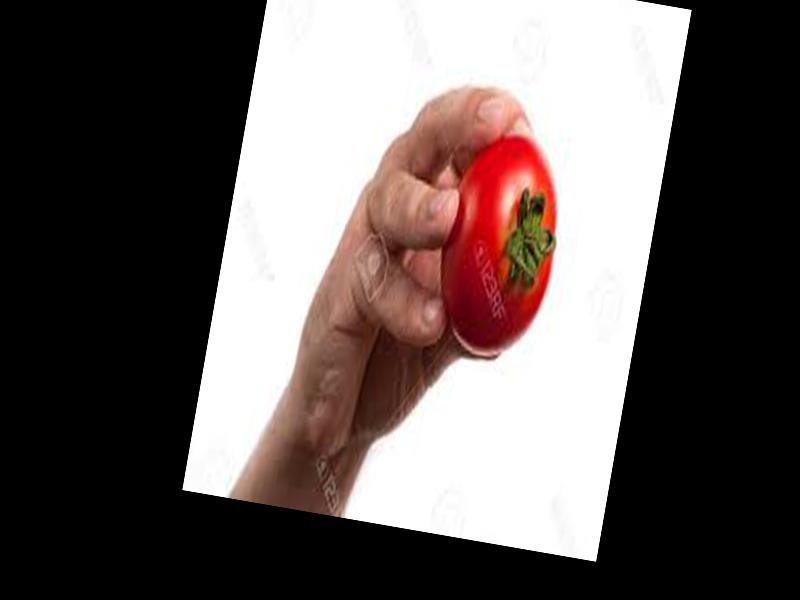Tomato: (428, 126, 573, 362)
